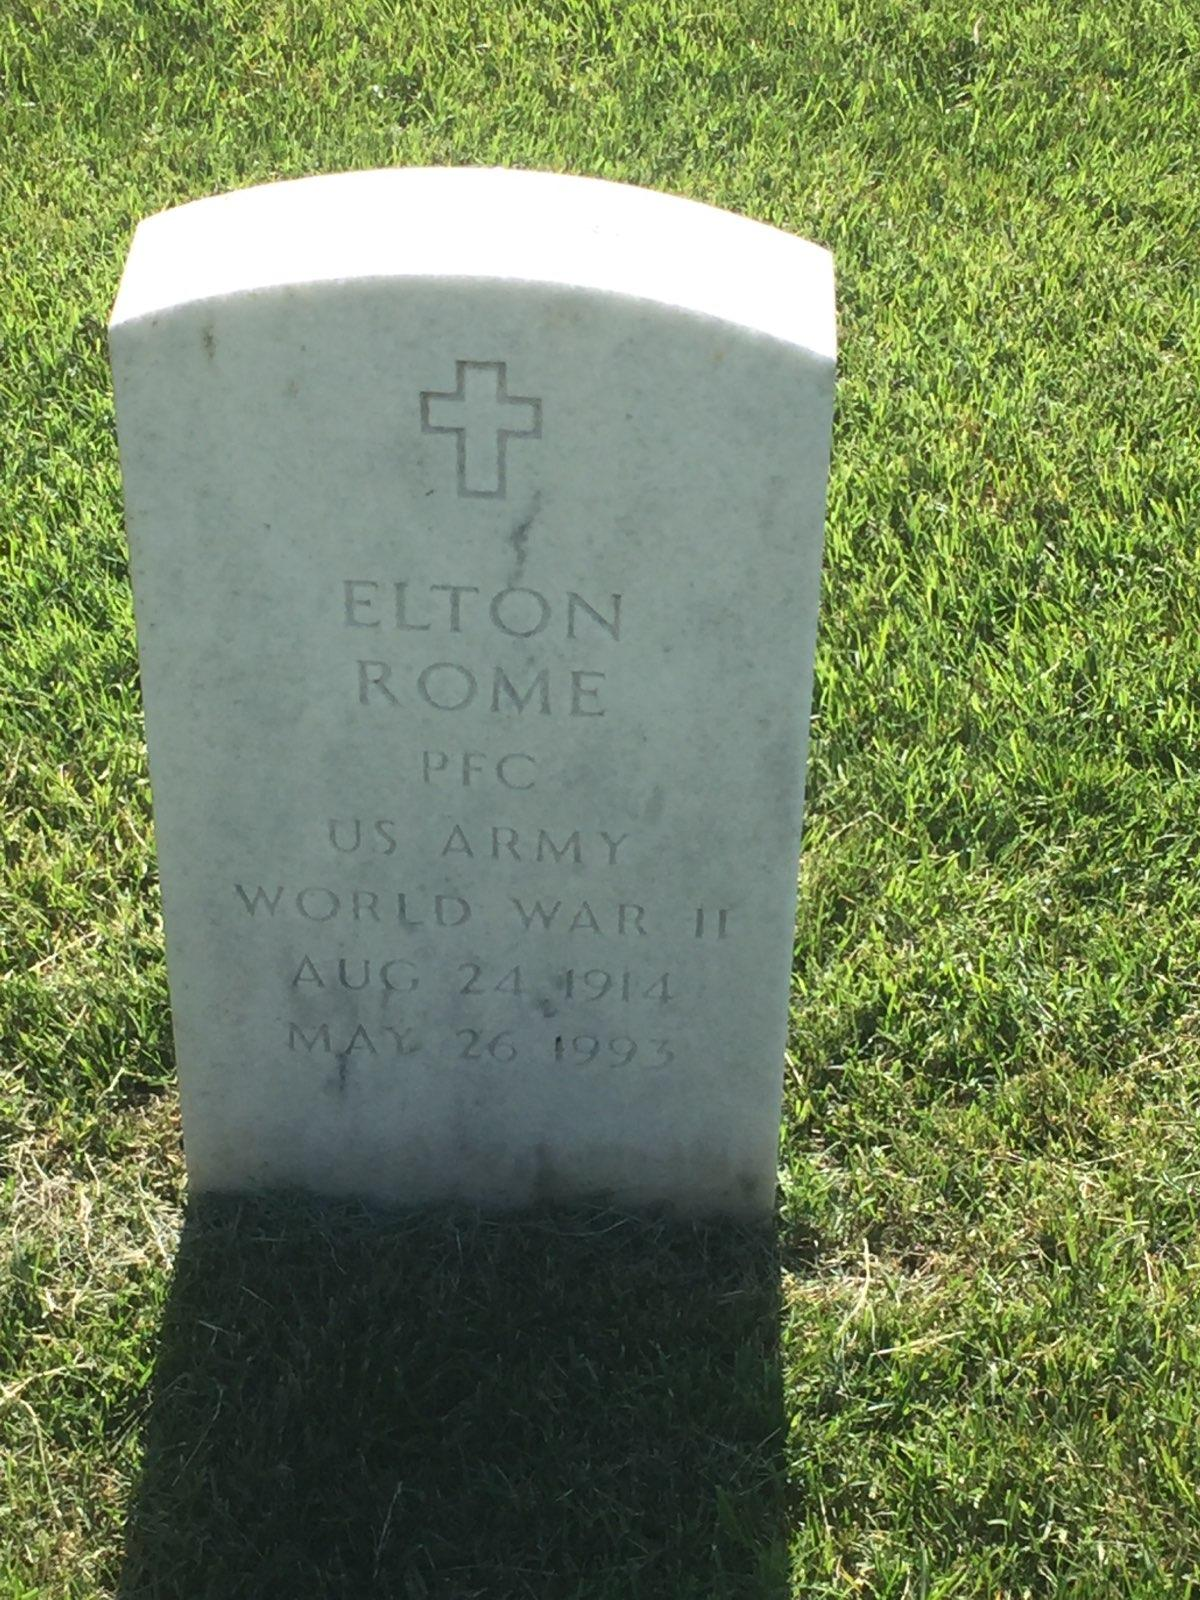military: (105, 163, 839, 1216)
